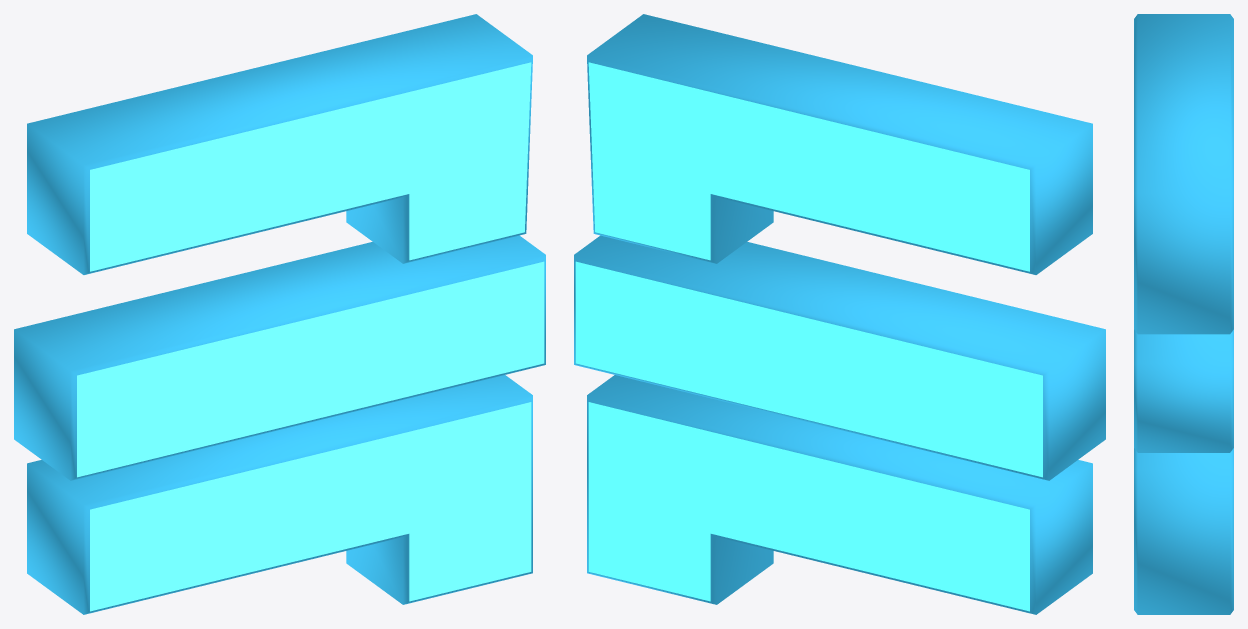
Rendered from u_adf9_b.glb.
3 views of the same model, side by side, from view 1: azimuth 30°, elevation 25°; view 2: azimuth 150°, elevation 25°; view 3: azimuth 270°, elevation 25° (orthographic). The views are drawn at different scales.
Visible parts, largest first — view 1: glyph; view 2: glyph; view 3: glyph.
Boxes of the visible parts, box(x1,y1,x2,y2) form: glyph: box(14, 14, 545, 614); glyph: box(574, 14, 1105, 614); glyph: box(1134, 14, 1233, 614).
Bounding box in the file's own units: 0.0726 × 0.0756 × 0.0162.
